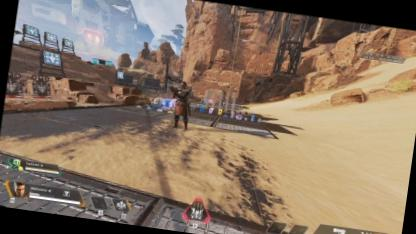Target: (170, 79, 196, 130)
